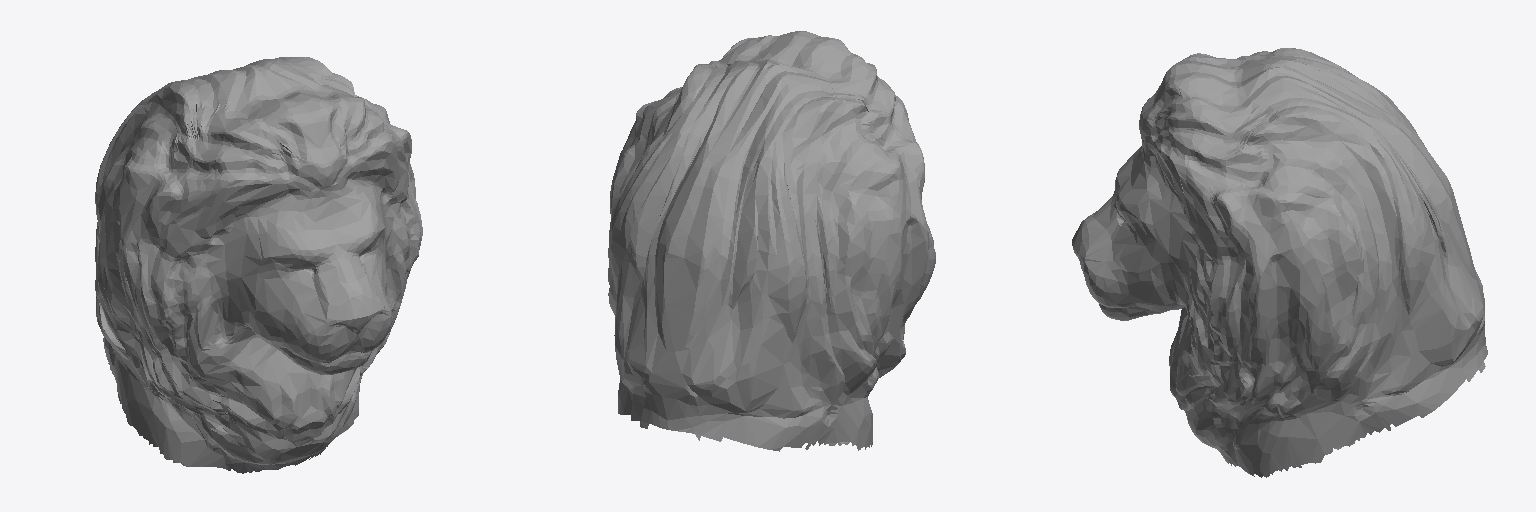
File: lion_low.obj
3 views of the same model, side by side, from view 1: azimuth 30°, elevation 25°; view 2: azimuth 150°, elevation 25°; view 3: azimuth 270°, elevation 25° (orthographic).
Visible parts, largest first — view 1: lion_low_lion.001; view 2: lion_low_lion.001; view 3: lion_low_lion.001.
Part boxes in pixels (x1,y1,x2,y2): lion_low_lion.001: (95,57,422,473); lion_low_lion.001: (608,31,935,451); lion_low_lion.001: (1072,48,1487,477).
Size of the model in its own units: 0.5492 by 0.672 by 0.6659.